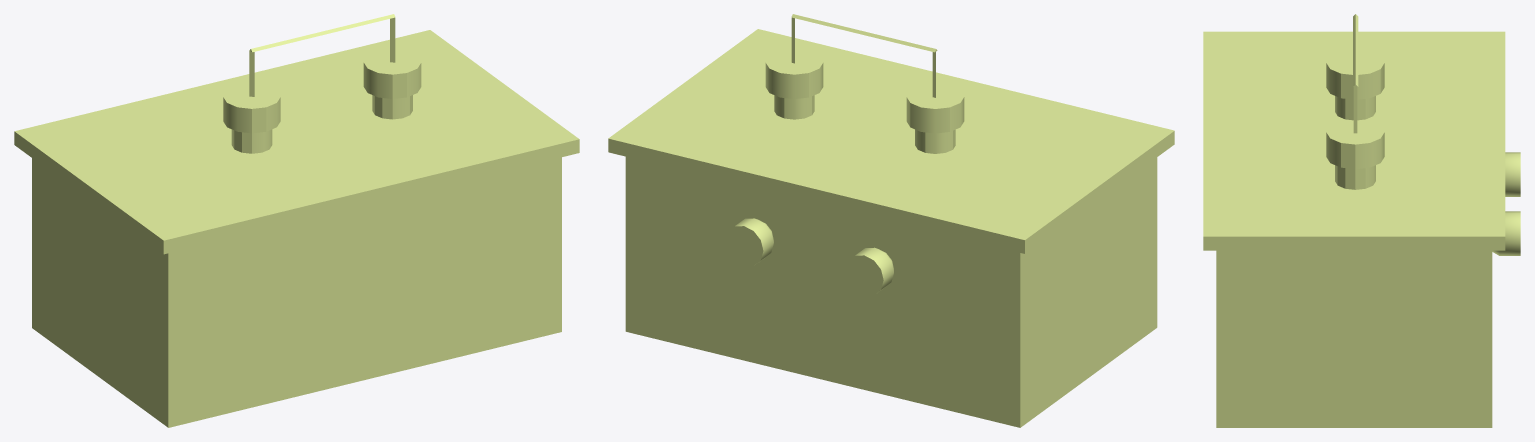
The model's file is SM_Accumulator.fbx.
3 views of the same model, side by side, from view 1: azimuth 30°, elevation 25°; view 2: azimuth 150°, elevation 25°; view 3: azimuth 270°, elevation 25° (orthographic).
Visible parts, largest first — view 1: invention_008; view 2: invention_008; view 3: invention_008.
Boxes of the visible parts, x1,y1,x2,y2 form: invention_008: [14, 14, 579, 427]; invention_008: [608, 14, 1174, 427]; invention_008: [1203, 14, 1520, 427].
Size of the model in its own units: 37.48 by 25.12 by 24.52.
